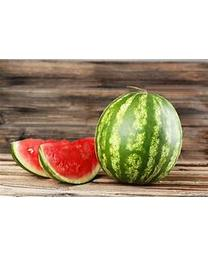watermelon: (94, 89, 183, 187), (8, 136, 102, 184)
